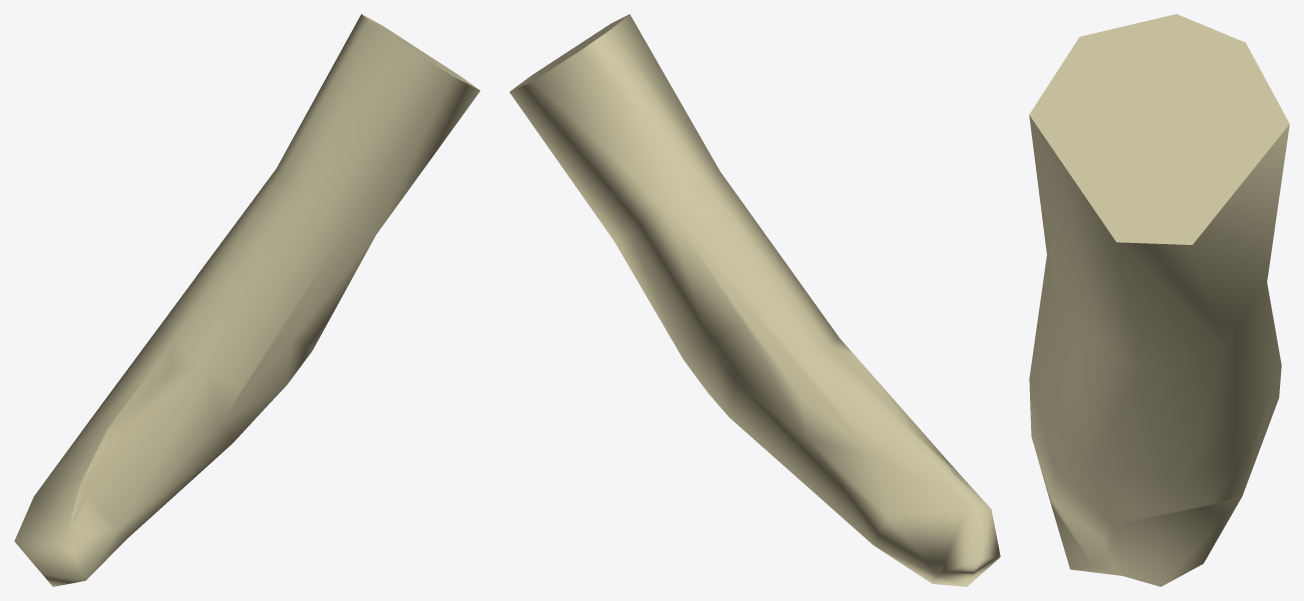
The model's file is Nao6_Left_Hand_Left_Finger.obj.
3 views of the same model, side by side, from view 1: azimuth 30°, elevation 25°; view 2: azimuth 150°, elevation 25°; view 3: azimuth 270°, elevation 25° (orthographic). The views are drawn at different scales.
Visible parts, largest first — view 1: Nao6_Left_Hand_Left_Finger; view 2: Nao6_Left_Hand_Left_Finger; view 3: Nao6_Left_Hand_Left_Finger.
Boxes of the visible parts, x1,y1,x2,y2 form: Nao6_Left_Hand_Left_Finger: (14,14,480,586); Nao6_Left_Hand_Left_Finger: (509,14,1000,586); Nao6_Left_Hand_Left_Finger: (1029,14,1289,586).
Bounding box in the file's own units: 0.2294 × 0.2298 × 0.0637.
